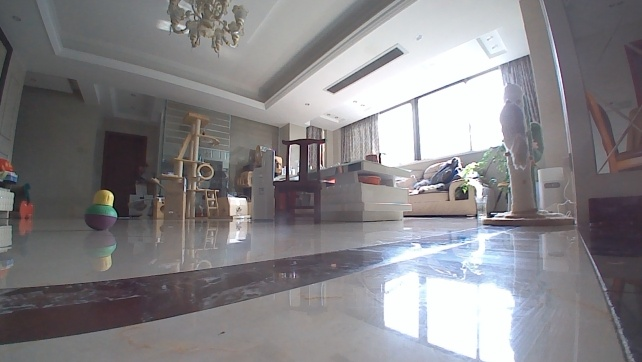door_anno: (100, 134, 147, 218)
sofa1: (410, 159, 486, 218)
tea_table1: (316, 158, 413, 224)
